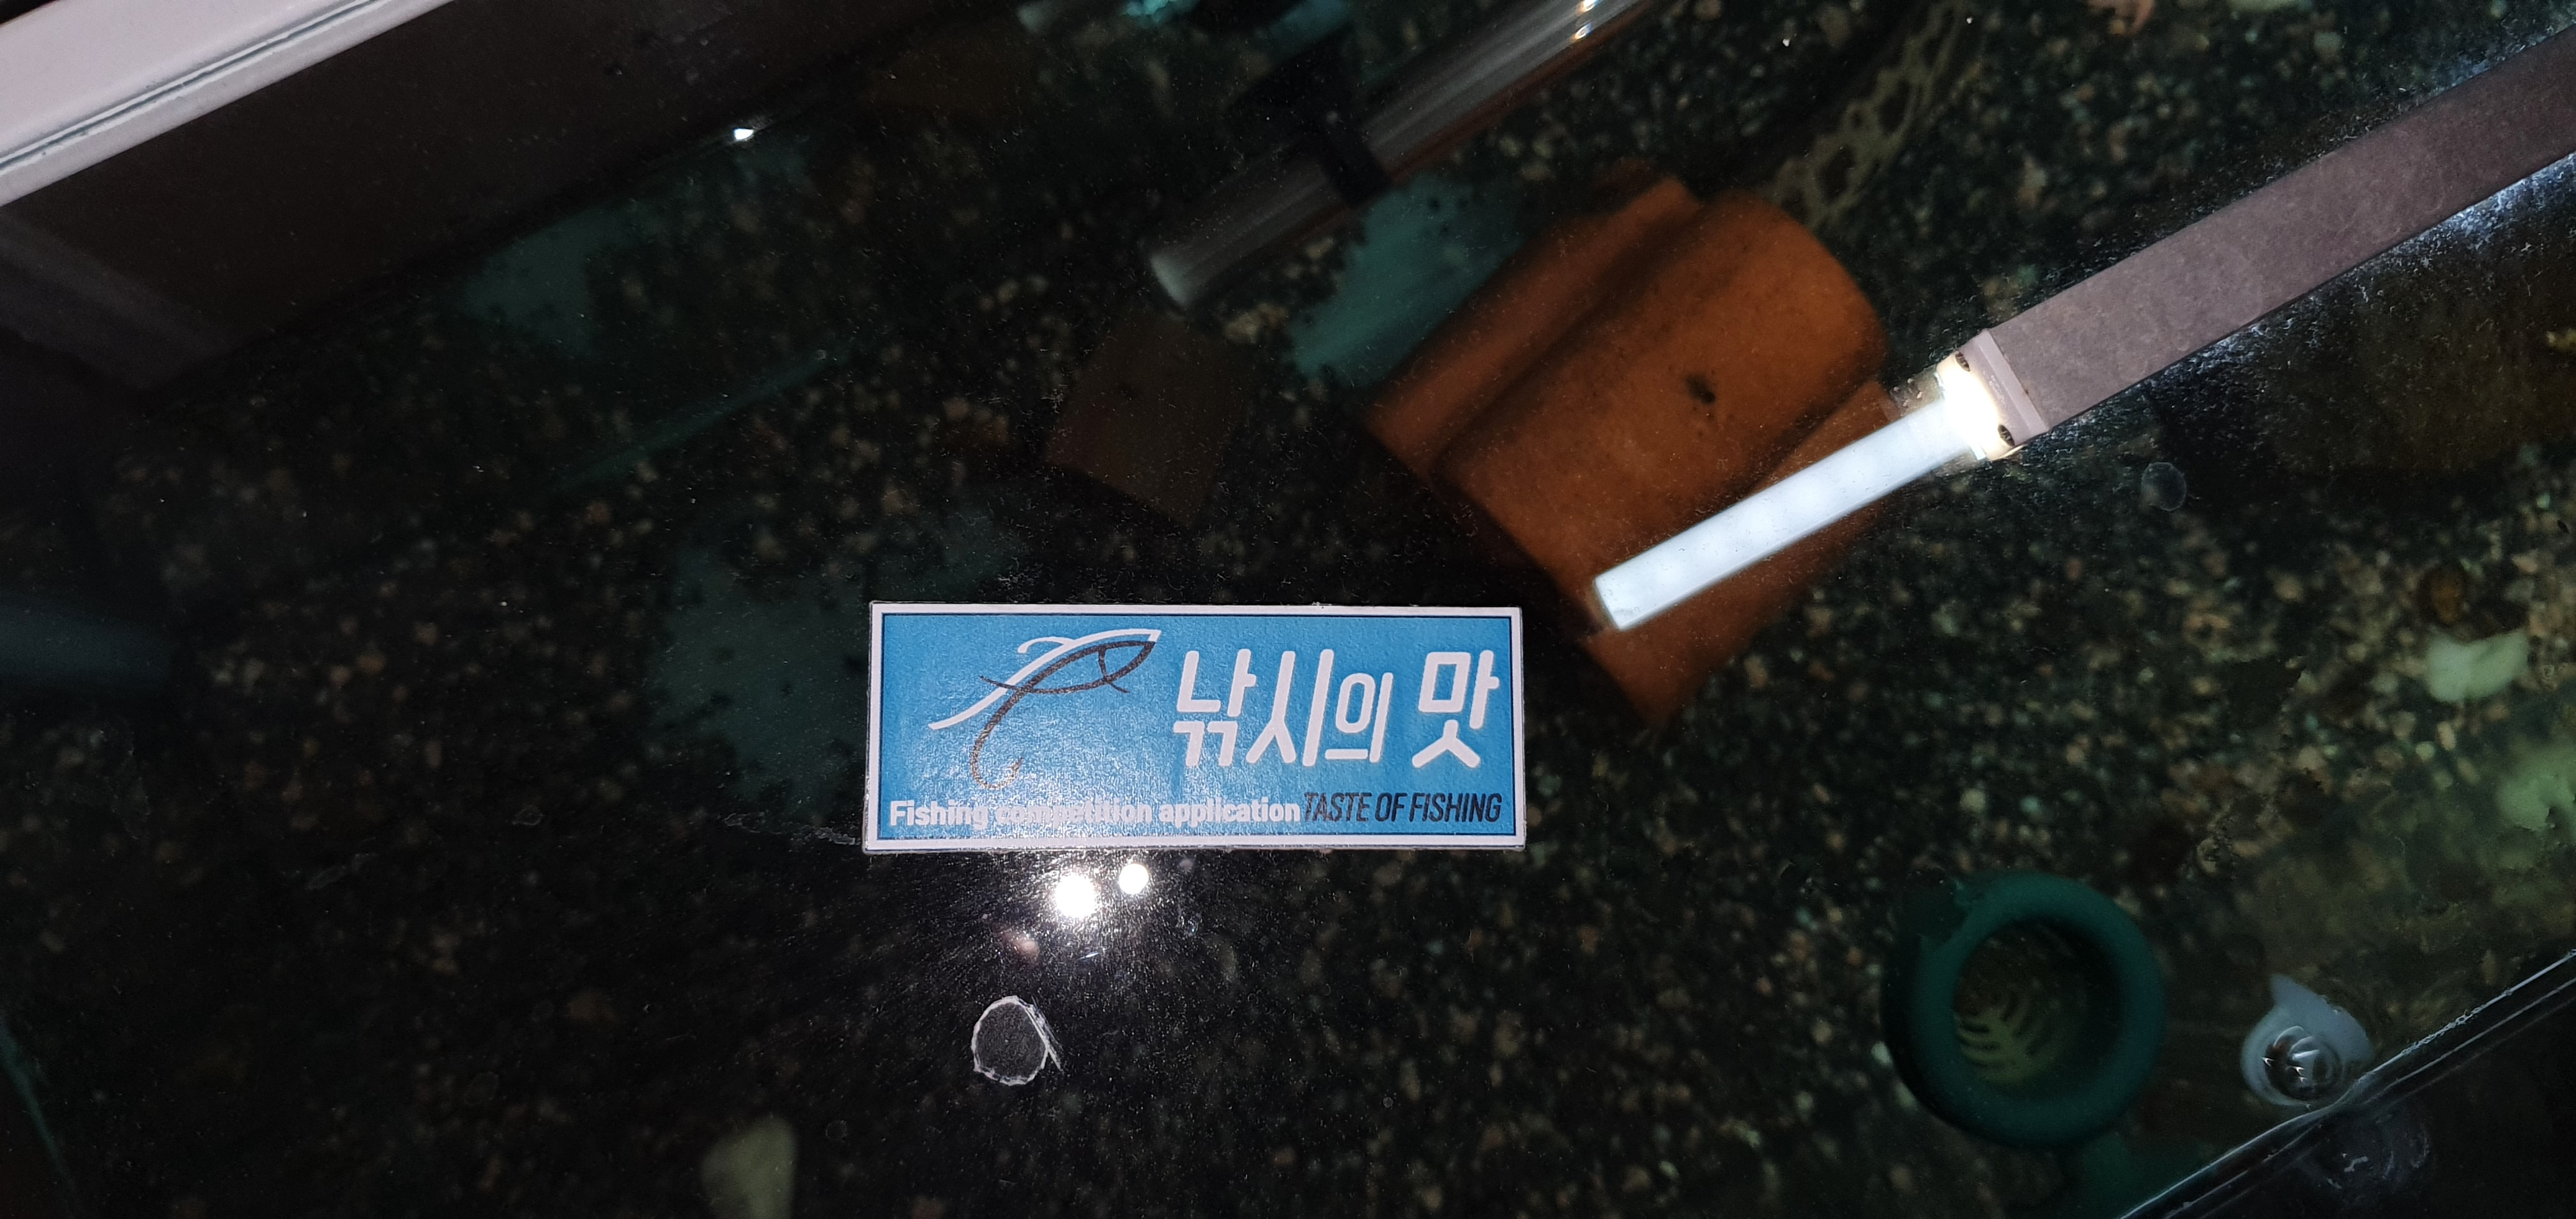tag: (864, 600, 1529, 849)
